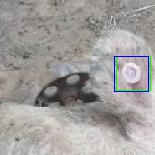text: (116, 56, 150, 90)
